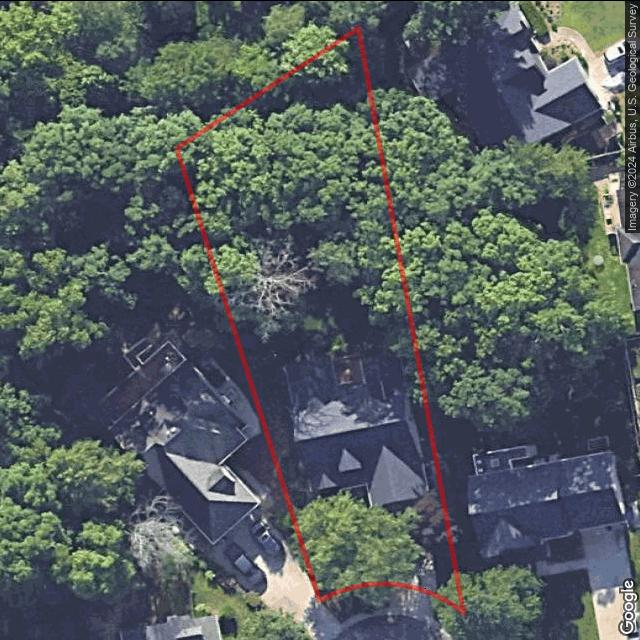Driveway: (376, 497, 439, 595)
Extra-Driveway: (385, 583, 438, 615)
Extra-Lawn: (318, 582, 392, 623), (430, 595, 463, 637)
House: (283, 341, 431, 504)
Lawn: (177, 27, 462, 610)
Other: (178, 26, 410, 303)
